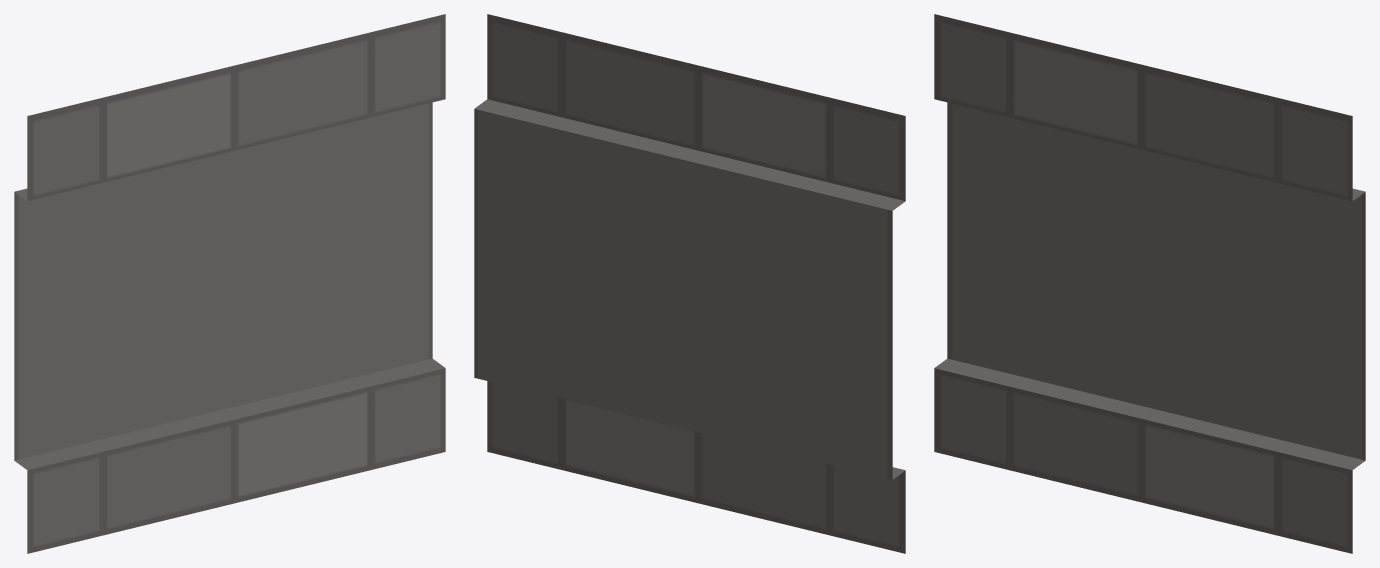
File: SD_Env_Wall_01.fbx
3 views of the same model, side by side, from view 1: azimuth 30°, elevation 25°; view 2: azimuth 150°, elevation 25°; view 3: azimuth 330°, elevation 25° (orthographic).
Visible parts, largest first — view 1: SD_Env_Wall_01; view 2: SD_Env_Wall_01; view 3: SD_Env_Wall_01.
Part boxes in pixels (x1=…): SD_Env_Wall_01: x1=14, y1=14, x2=445, y2=553; SD_Env_Wall_01: x1=474, y1=14, x2=905, y2=553; SD_Env_Wall_01: x1=934, y1=14, x2=1365, y2=553.
Bounding box in the file's own units: 5 × 5 × 0.272.
